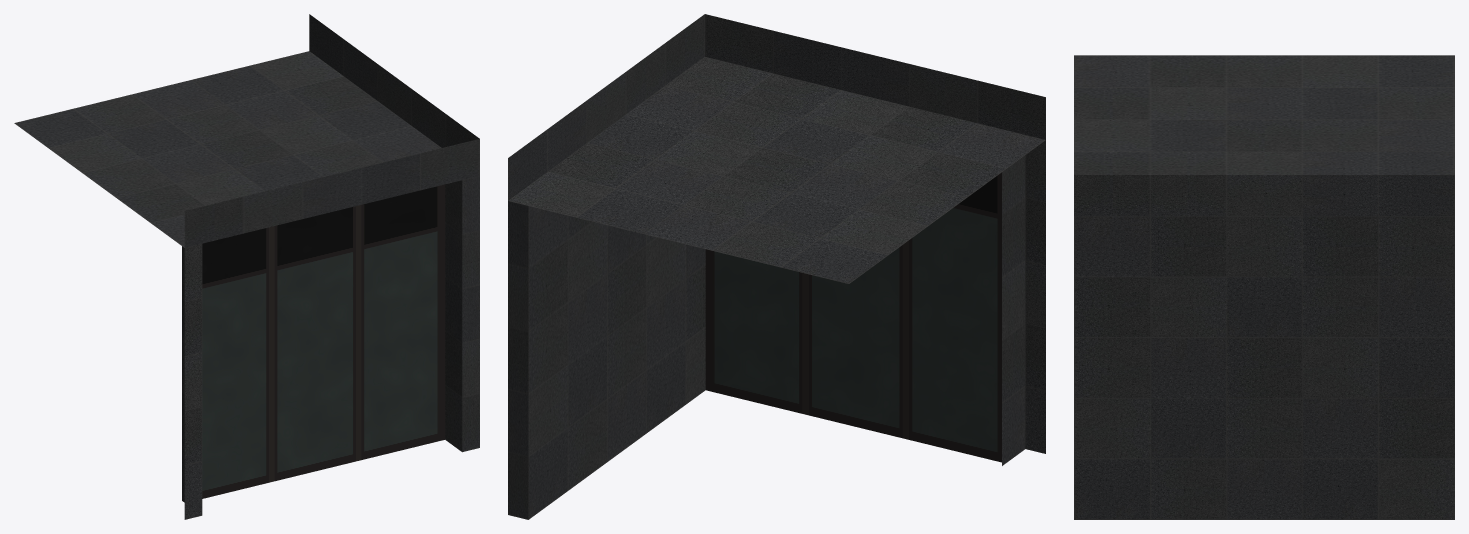
File: ground_floor_right_edge.glb
3 renders of one model, left to right at view 1: azimuth 30°, elevation 25°; view 2: azimuth 150°, elevation 25°; view 3: azimuth 270°, elevation 25°, orthographic. The views are drawn at different scales.
Parts seen in each view (by area): view 1: Glass 2, Entablature, Column 1, Column 3; view 2: Entablature, Glass 2, Column 1, Column 3; view 3: Column 1, Entablature.
Part boxes in pixels (left/top/right/bottom): Glass 2: left=202, top=184, right=445, bottom=498; Entablature: left=14, top=14, right=479, bottom=247; Column 1: left=445, top=176, right=479, bottom=452; Column 3: left=182, top=244, right=202, bottom=519; Entablature: left=508, top=14, right=1045, bottom=283; Glass 2: left=705, top=172, right=1001, bottom=462; Column 1: left=508, top=201, right=705, bottom=519; Column 3: left=1002, top=140, right=1045, bottom=465; Column 1: left=1074, top=216, right=1454, bottom=519; Entablature: left=1074, top=55, right=1454, bottom=216.
Bounding box in the file's own units: 5 × 5 × 5.
2 materials, 2 textured.
